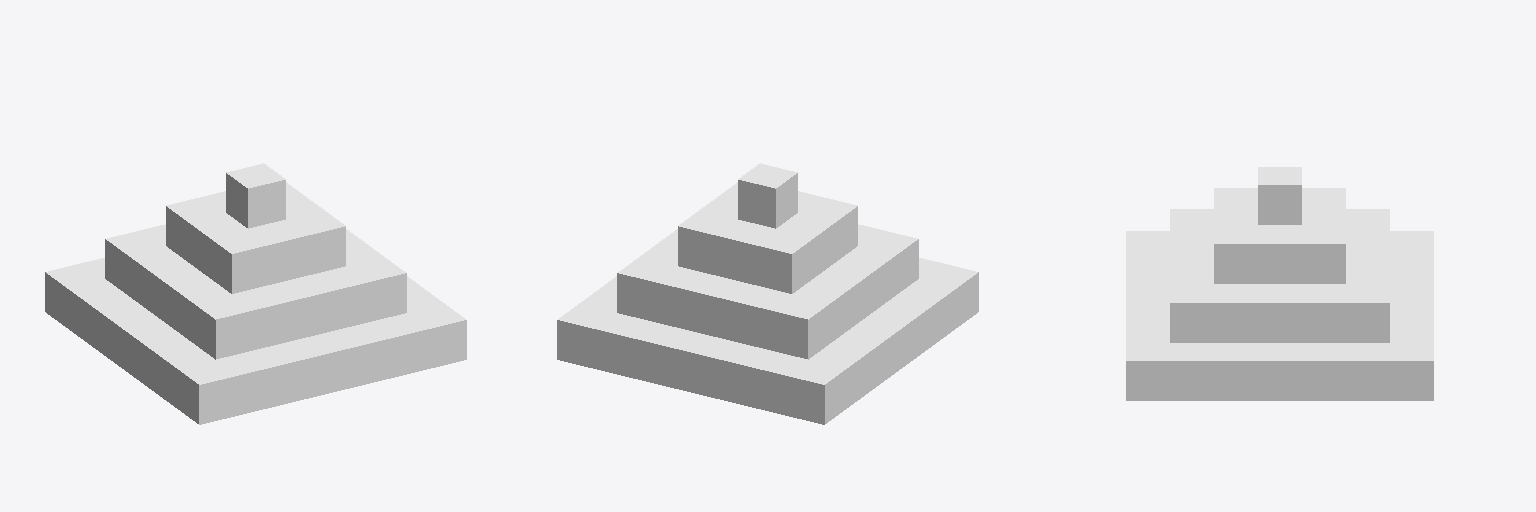
The model's file is JungleBush1.obj.
3 views of the same model, side by side, from view 1: azimuth 30°, elevation 25°; view 2: azimuth 150°, elevation 25°; view 3: azimuth 270°, elevation 25° (orthographic).
Size of the model in its own units: 7 by 4 by 7.